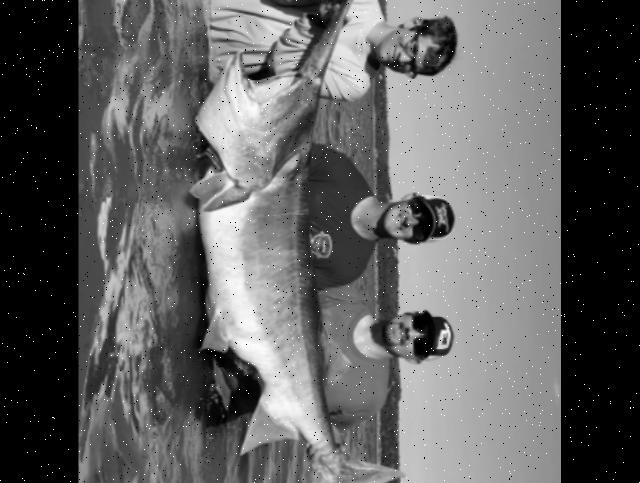Mulut: (202, 38, 320, 97)
Sirip Anal: (234, 399, 304, 462)
Sirip Dada: (181, 161, 262, 226)
Sirip Ekor: (286, 443, 410, 483)
Sirip Perut: (190, 296, 244, 362)
Sirip Punggung: (301, 317, 358, 396)
